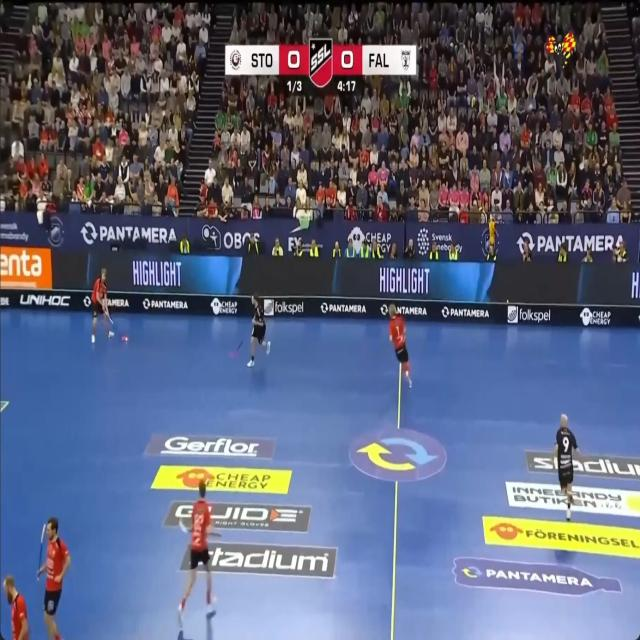Balls: (121, 336, 128, 341)
player: (178, 480, 214, 628), (38, 517, 70, 639), (554, 414, 579, 520), (388, 304, 411, 387), (247, 294, 270, 367), (3, 575, 29, 639), (91, 269, 113, 341)
